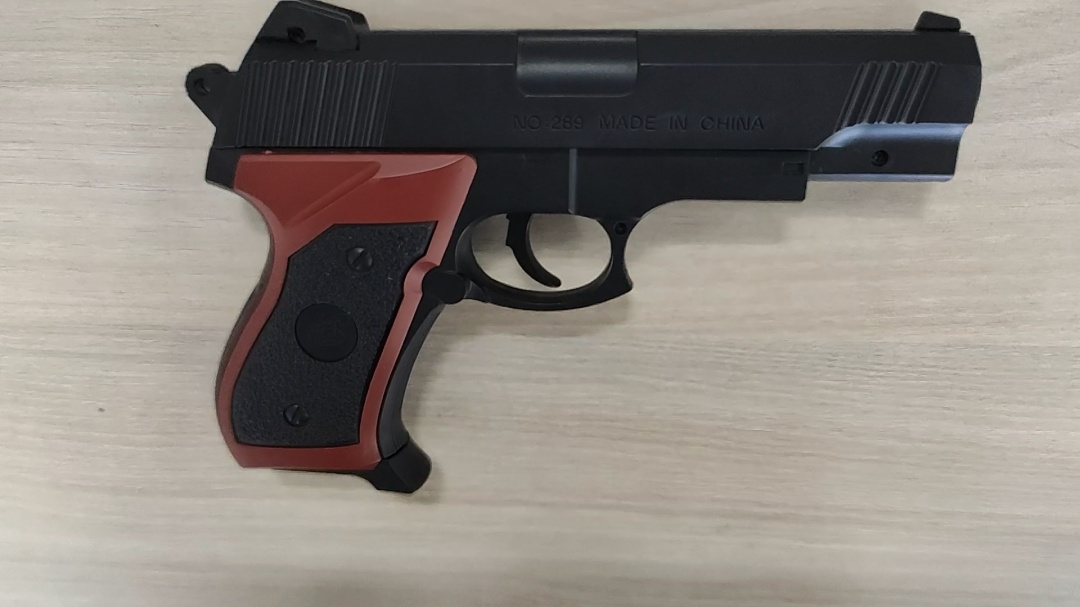gun: (183, 3, 993, 499)
